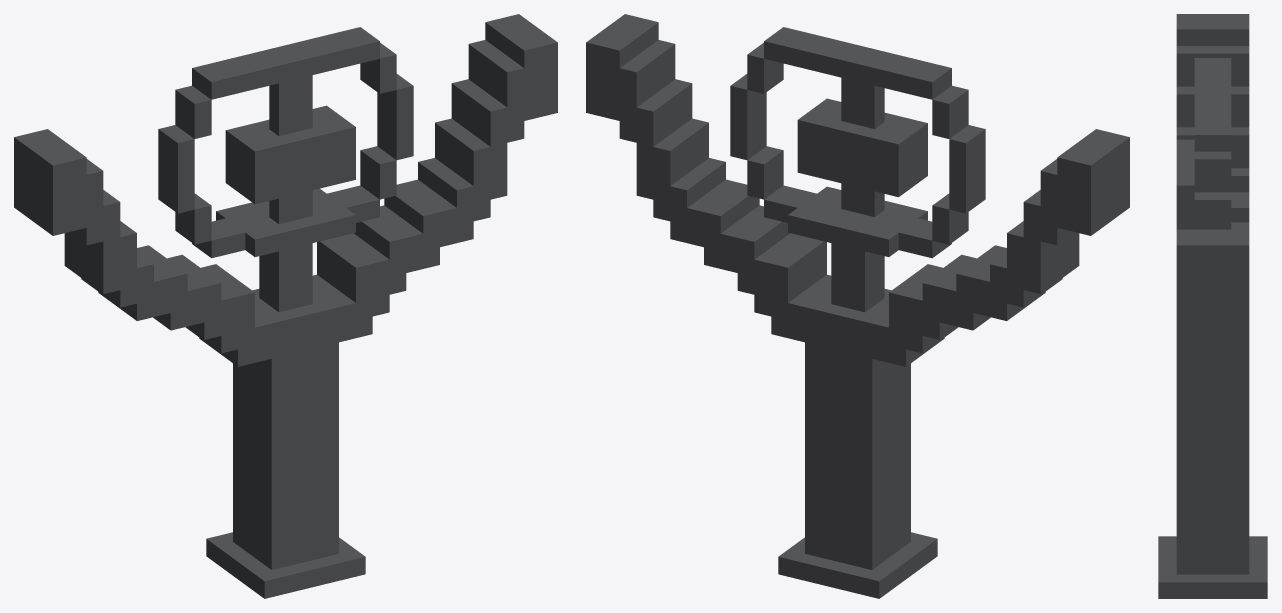
Rendered from symbol_sekty.dae.
3 views of the same model, side by side, from view 1: azimuth 30°, elevation 25°; view 2: azimuth 150°, elevation 25°; view 3: azimuth 270°, elevation 25° (orthographic). The views are drawn at different scales.
Parts seen in each view (by area): view 1: Content; view 2: Content; view 3: Content.
Boxes of the visible parts, bbox=[...] form: Content: bbox=[14, 14, 557, 598]; Content: bbox=[586, 14, 1129, 598]; Content: bbox=[1158, 14, 1267, 598].
Size of the model in its own units: 30 by 29 by 6.
Materials: 1 (1 with a texture image).
